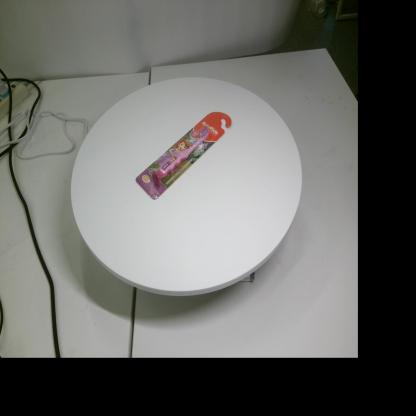Personal Hygiene: (136, 112, 232, 200)
